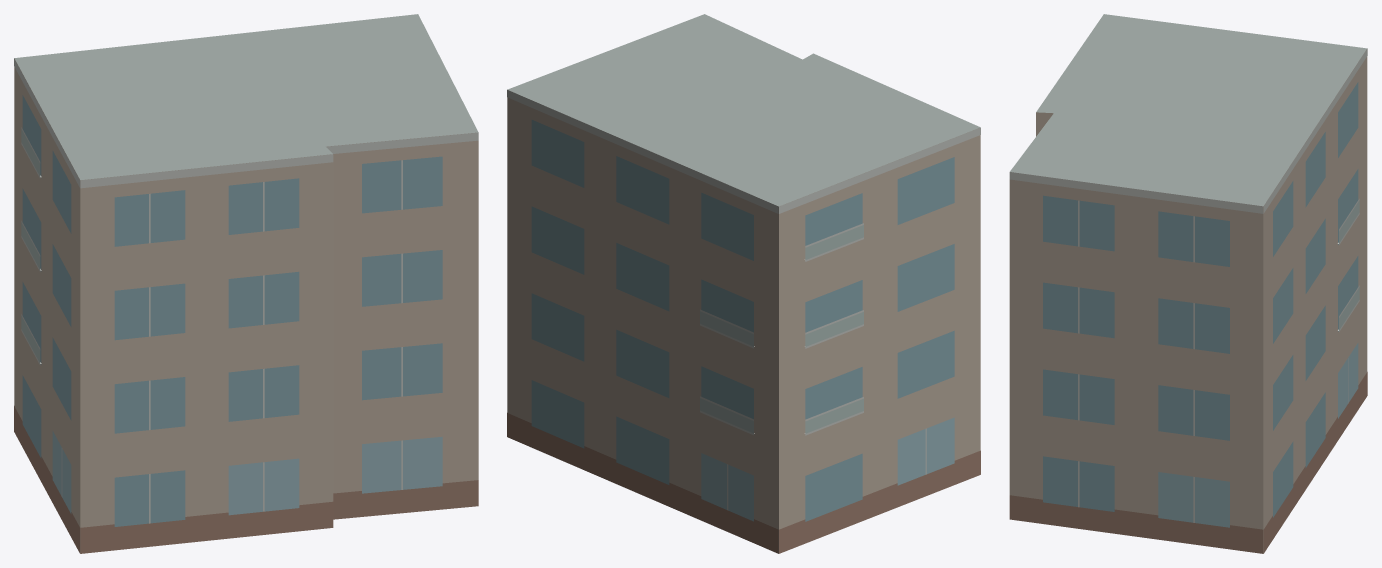
The model's file is survey-upis-33026221.glb.
3 views of the same model, side by side, from view 1: azimuth 30°, elevation 25°; view 2: azimuth 150°, elevation 25°; view 3: azimuth 270°, elevation 25° (orthographic). The views are drawn at different scales.
Visible parts, largest first — view 1: survey-upis-33026221.tmp; view 2: survey-upis-33026221.tmp; view 3: survey-upis-33026221.tmp.
Boxes of the visible parts, <box> form: survey-upis-33026221.tmp: <box>14,14,478,553</box>; survey-upis-33026221.tmp: <box>507,14,980,553</box>; survey-upis-33026221.tmp: <box>1009,14,1367,553</box>.
Bounding box in the file's own units: 13.3 × 11.2 × 10.46.
